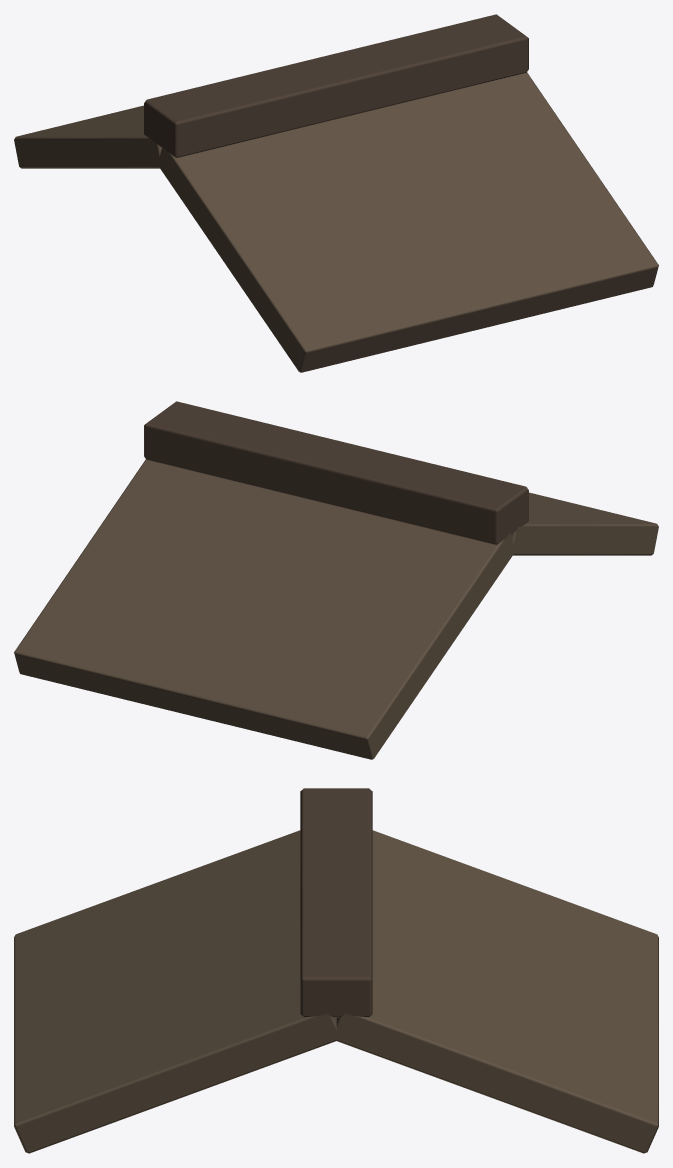
Rendered from ghost-town-roof-ridge.8f2e7f1f.glb.
3 views of the same model, one above another, from view 1: azimuth 30°, elevation 25°; view 2: azimuth 150°, elevation 25°; view 3: azimuth 270°, elevation 25° (orthographic). The views are drawn at different scales.
Visible parts, largest first — view 1: body; view 2: body; view 3: body.
Part boxes in pixels (x1,y1,x2,y2): body: (14, 14, 658, 372); body: (14, 401, 658, 759); body: (14, 788, 658, 1153).
Size of the model in its own units: 1 by 0.4311 by 1.43.
